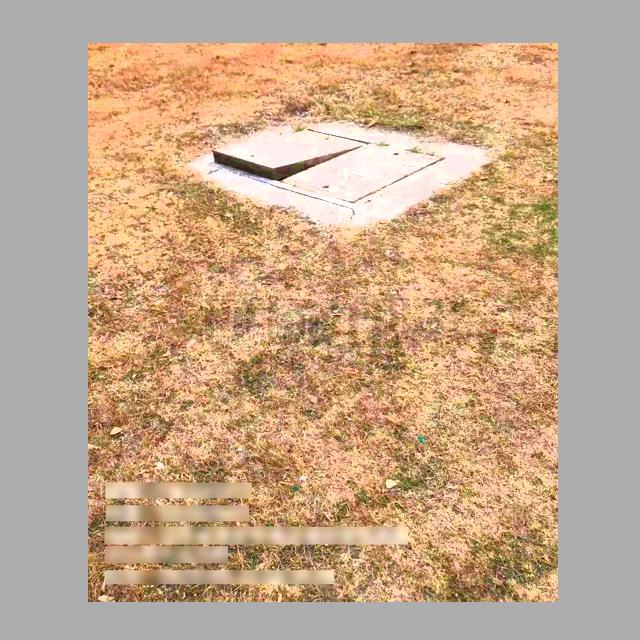uncovered: (208, 125, 450, 208)
